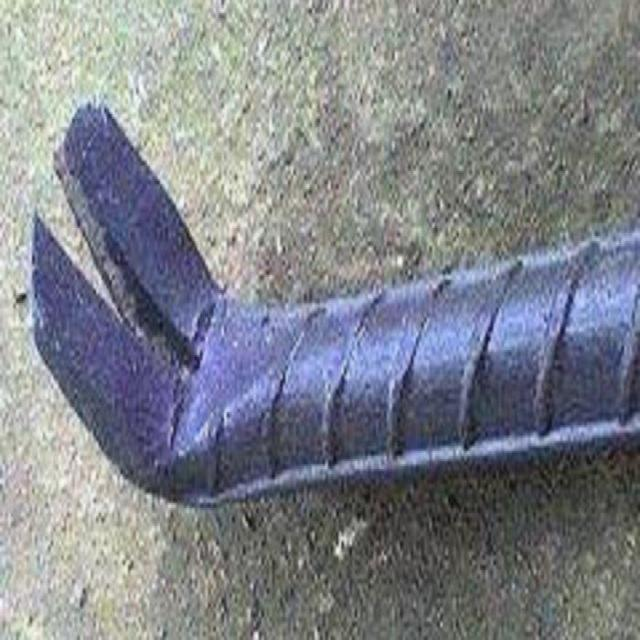Linggis: (21, 80, 640, 529)
